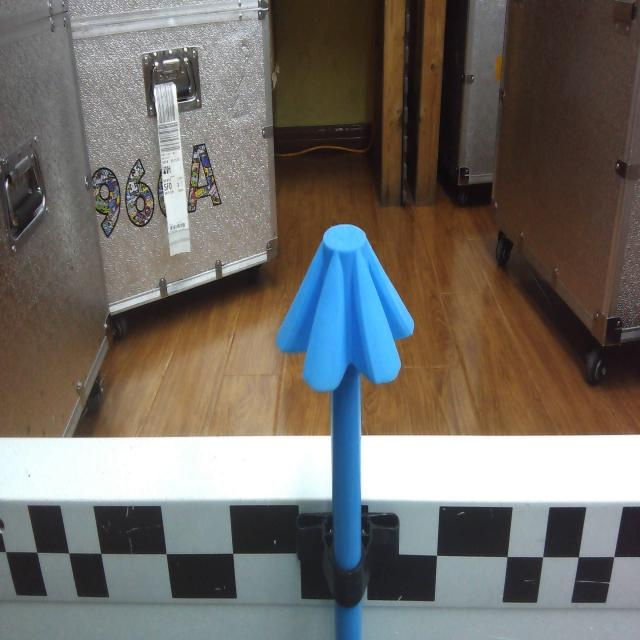zblue-Stake-Head: (276, 224, 414, 392)
